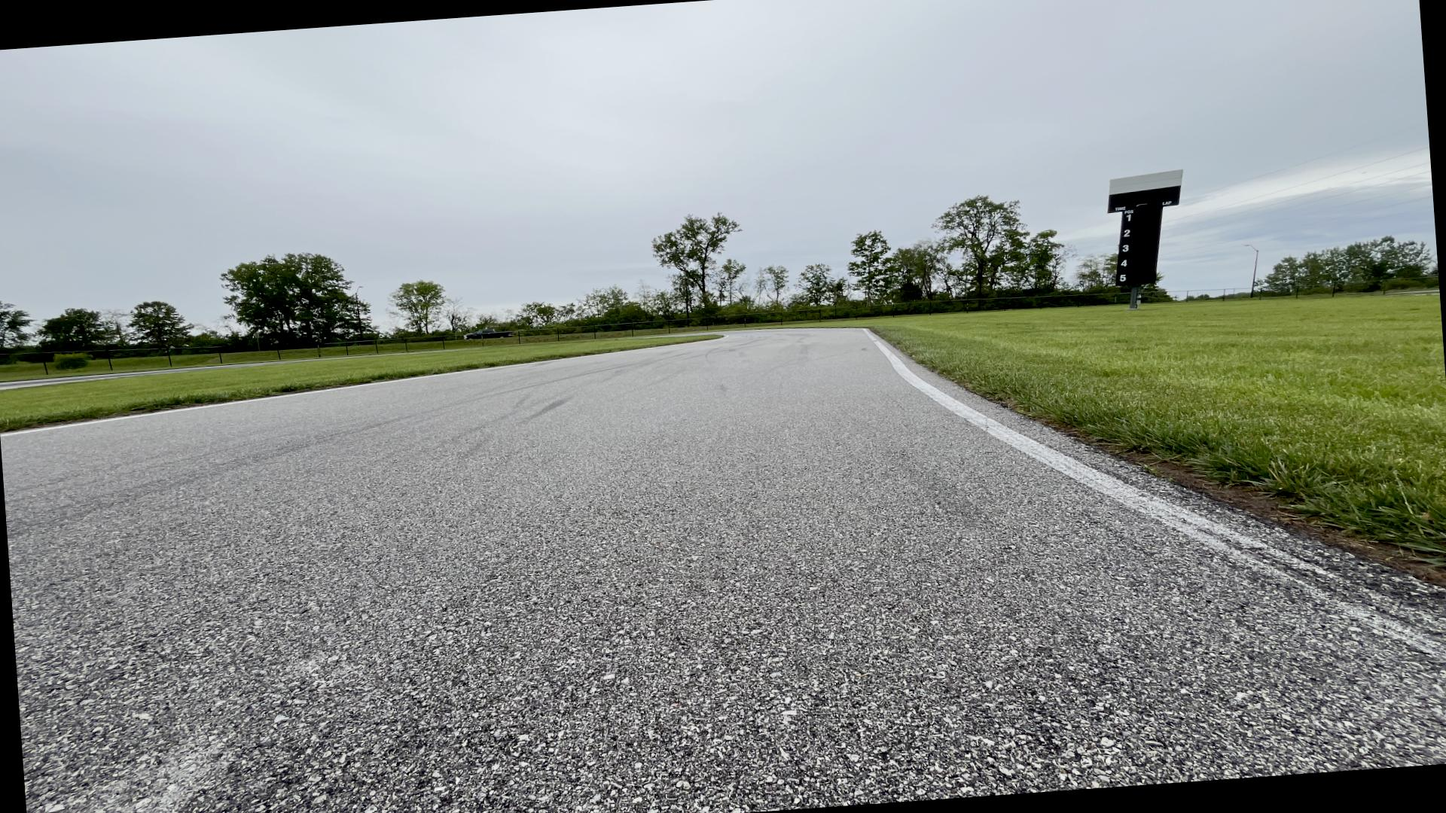white-line: (850, 328, 1445, 659), (0, 336, 728, 436)
